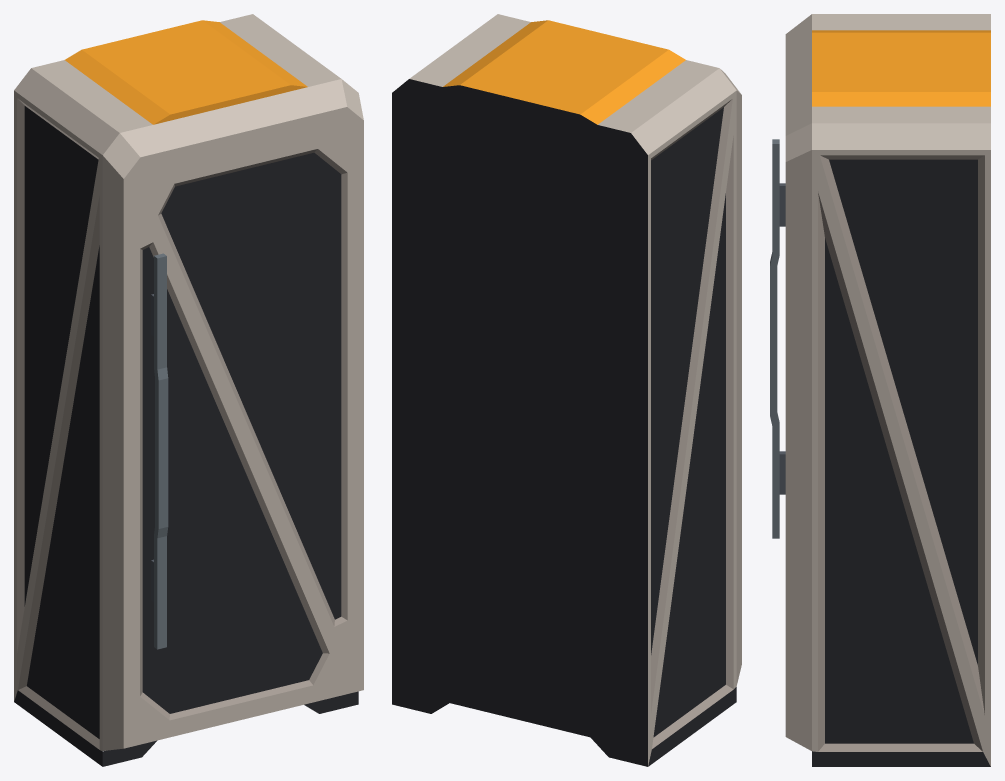
File: SM_Fridge.glb
3 views of the same model, side by side, from view 1: azimuth 30°, elevation 25°; view 2: azimuth 150°, elevation 25°; view 3: azimuth 270°, elevation 25° (orthographic).
Parts seen in each view (by area): view 1: SM_Fridge.001; view 2: SM_Fridge.001; view 3: SM_Fridge.001.
Boxes of the visible parts, box(x1,y1,x2,y2) form: SM_Fridge.001: box(14, 14, 363, 766); SM_Fridge.001: box(392, 14, 741, 766); SM_Fridge.001: box(770, 14, 990, 766).
Bounding box in the file's own units: 1 × 2.37 × 0.7406.
Materials: 1 (1 with a texture image).
